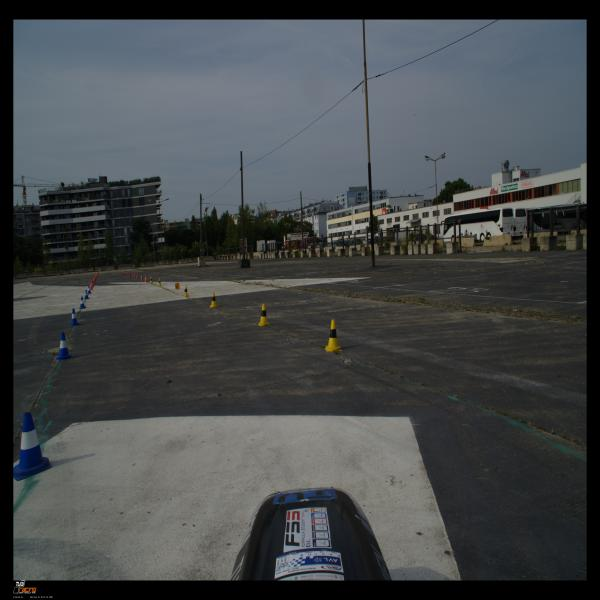blue_cone: (13, 412, 52, 481), (55, 333, 73, 360), (69, 308, 80, 326), (79, 297, 86, 309), (84, 290, 89, 299), (88, 286, 92, 294)
large_orange_cone: (124, 269, 126, 274)
orange_cone: (144, 275, 148, 282), (140, 274, 144, 281), (92, 278, 96, 284), (90, 282, 93, 289), (136, 273, 139, 279), (133, 272, 136, 278), (91, 281, 94, 287), (92, 279, 94, 285), (132, 272, 134, 277), (125, 270, 127, 274), (126, 272, 128, 276), (128, 272, 130, 276)
yellow_cone: (325, 319, 342, 352), (258, 304, 270, 326), (210, 292, 218, 308), (183, 285, 189, 297), (158, 278, 162, 286), (175, 283, 180, 289), (150, 276, 153, 284)
